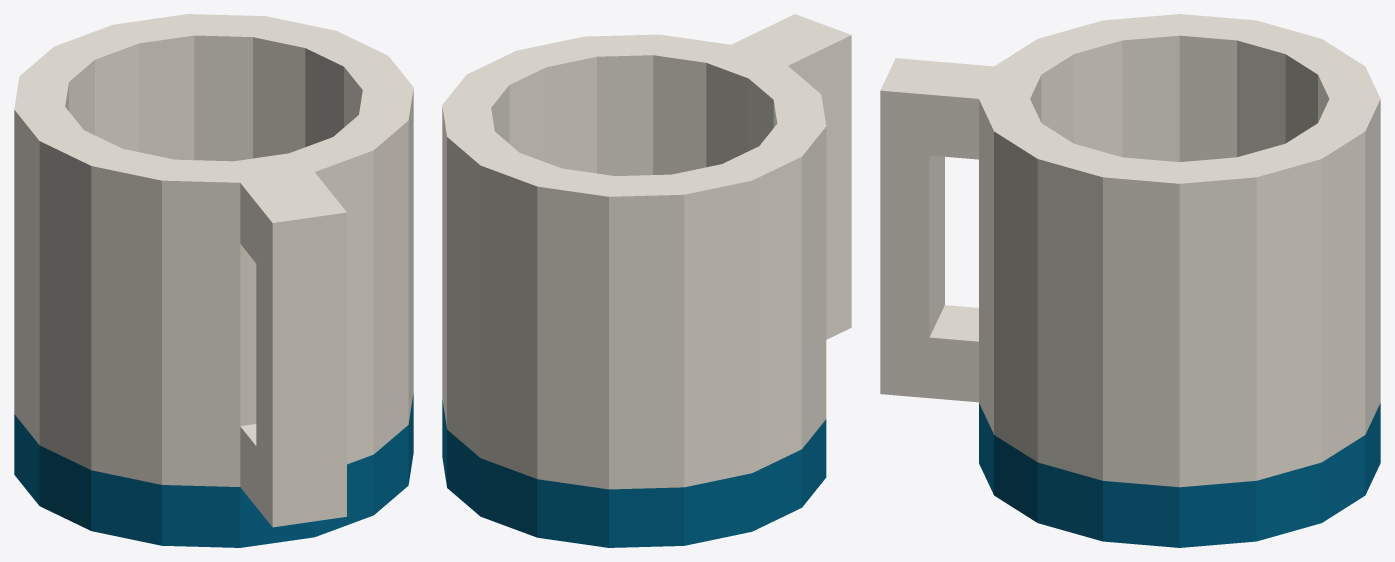
The model's file is G01_003_Cup.fbx.
3 views of the same model, side by side, from view 1: azimuth 30°, elevation 25°; view 2: azimuth 150°, elevation 25°; view 3: azimuth 270°, elevation 25° (orthographic). The views are drawn at different scales.
Visible parts, largest first — view 1: 柱体.021; view 2: 柱体.021; view 3: 柱体.021.
Boxes of the visible parts, x1=… form: 柱体.021: x1=14, y1=14, x2=413, y2=547; 柱体.021: x1=442, y1=14, x2=851, y2=547; 柱体.021: x1=880, y1=14, x2=1380, y2=547.
Bounding box in the file's own units: 40 × 40 × 49.81.
